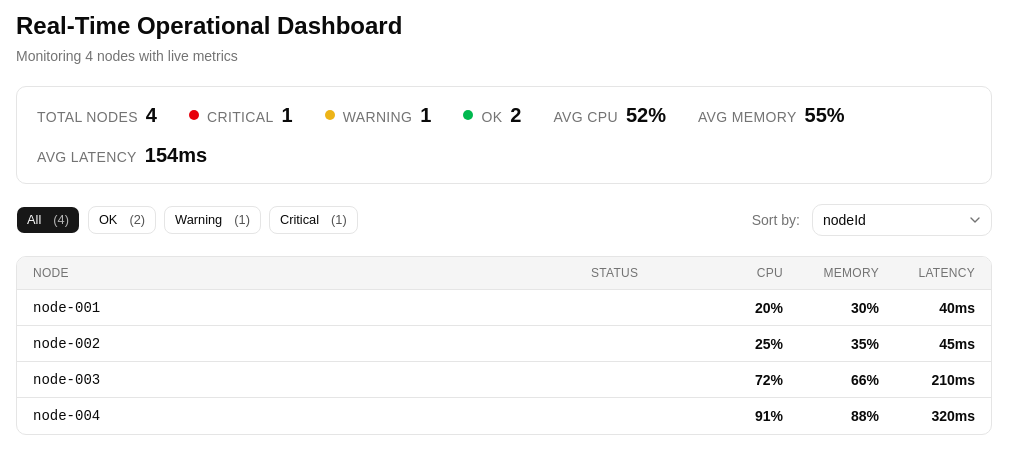
Test: App › shows only critical nodes after filtering by Critical
Click the button "Critical (1)".
click(313, 220)  # box [269,206,358,234]
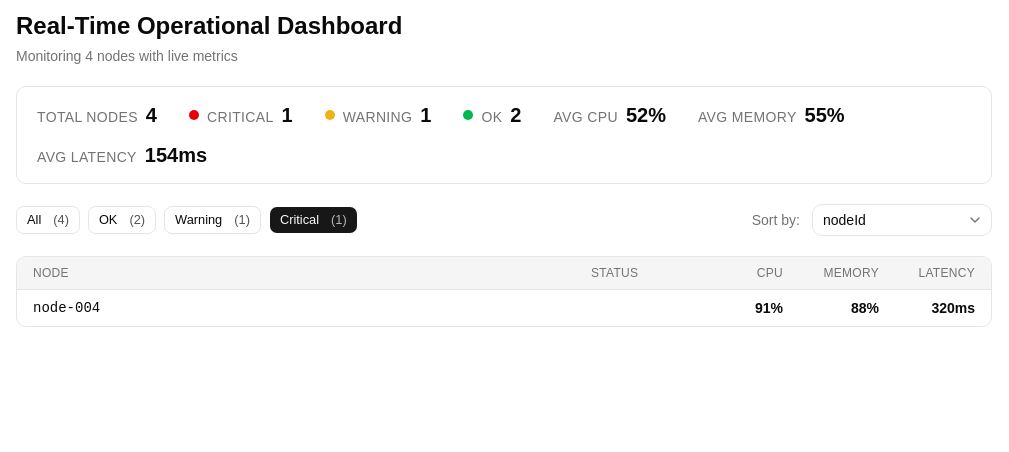
Expected: the text "node-004" is shown, [17,290,575,326]
Expected: the text "node-001" is gone
Expected: the text "node-003" is gone
